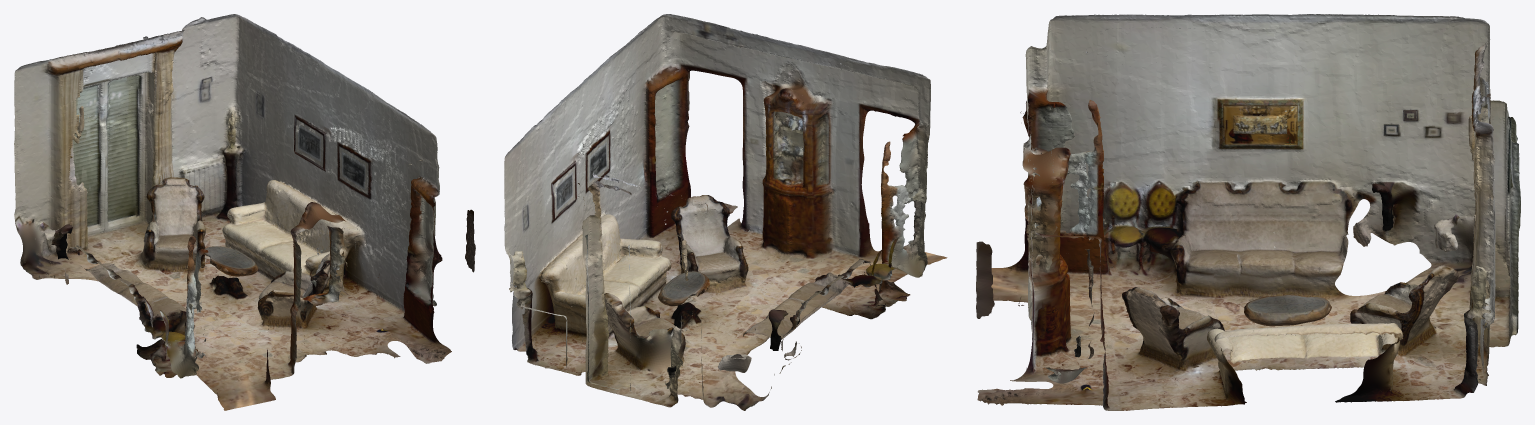
Rendered from soggiorno-scansione.glb.
3 views of the same model, side by side, from view 1: azimuth 30°, elevation 25°; view 2: azimuth 150°, elevation 25°; view 3: azimuth 270°, elevation 25° (orthographic). The views are drawn at different scales.
Size of the model in its own units: 4.1 by 3.02 by 5.88.
2 materials, 2 textured.
